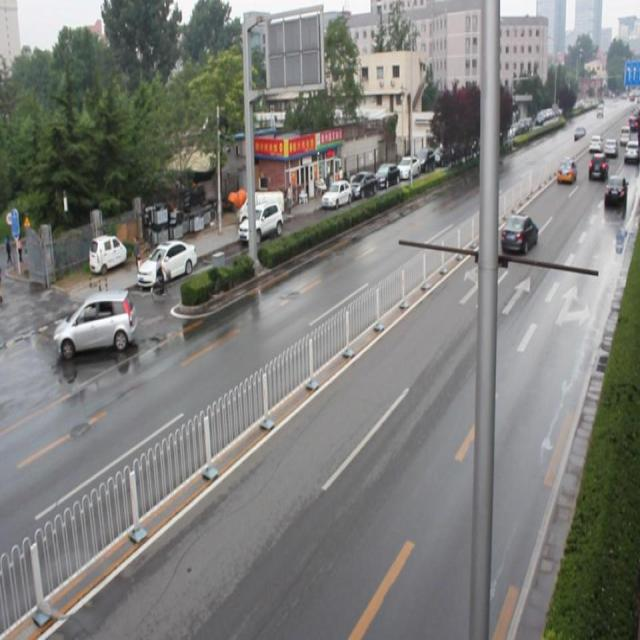car: (55, 292, 137, 359), (499, 210, 537, 253), (602, 172, 625, 207)
